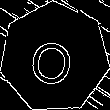O_N: (29, 28, 80, 86)
